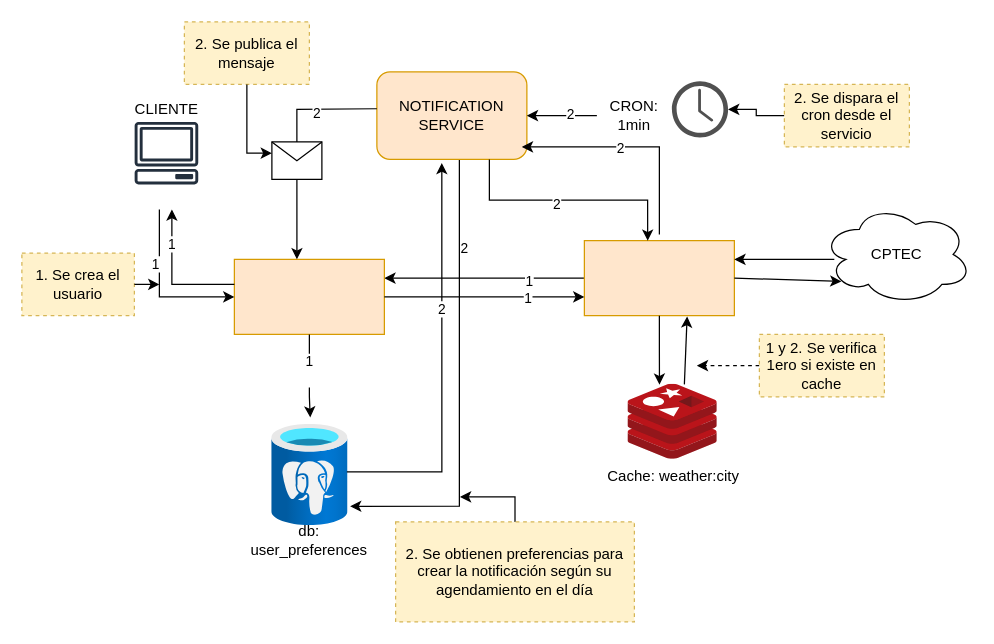
Some shapes in this 994 by 644 pixel diagram are drawn without their labels. Each missing label, with the centre of its shape:
"USER SERVICE" belongs at pixel 308 296.
"WEATHER SERVICE" belongs at pixel 658 277.
